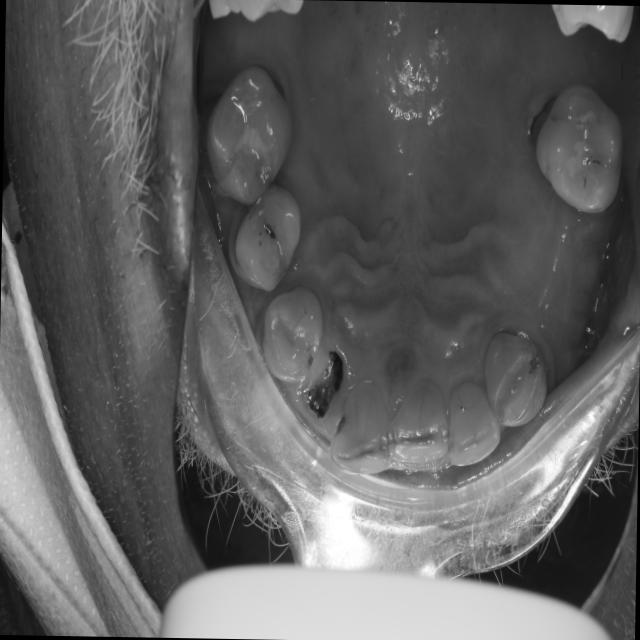tooth: (196, 50, 298, 216), (526, 61, 630, 223), (220, 174, 307, 303), (474, 314, 555, 434), (252, 271, 327, 393), (328, 358, 397, 490), (379, 366, 457, 477), (442, 368, 505, 474)
